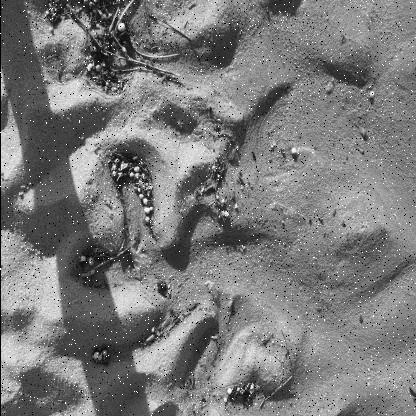foam: (80, 274, 90, 278)
